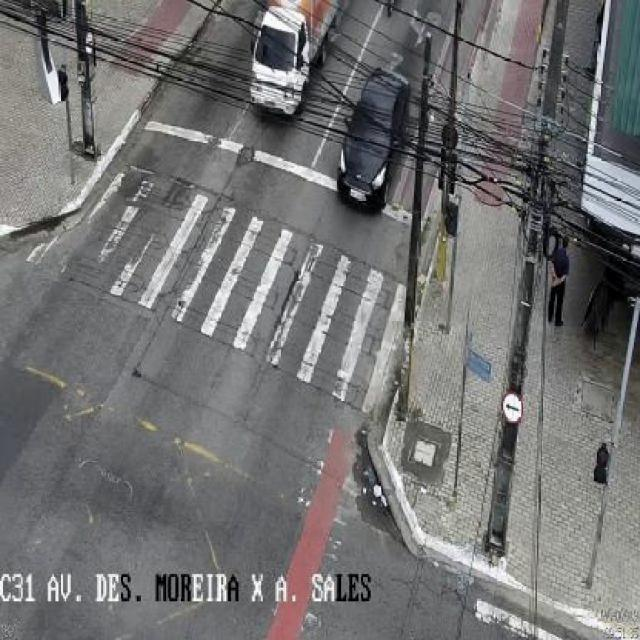Car: (316, 56, 422, 223)
Truck: (226, 0, 345, 142)
